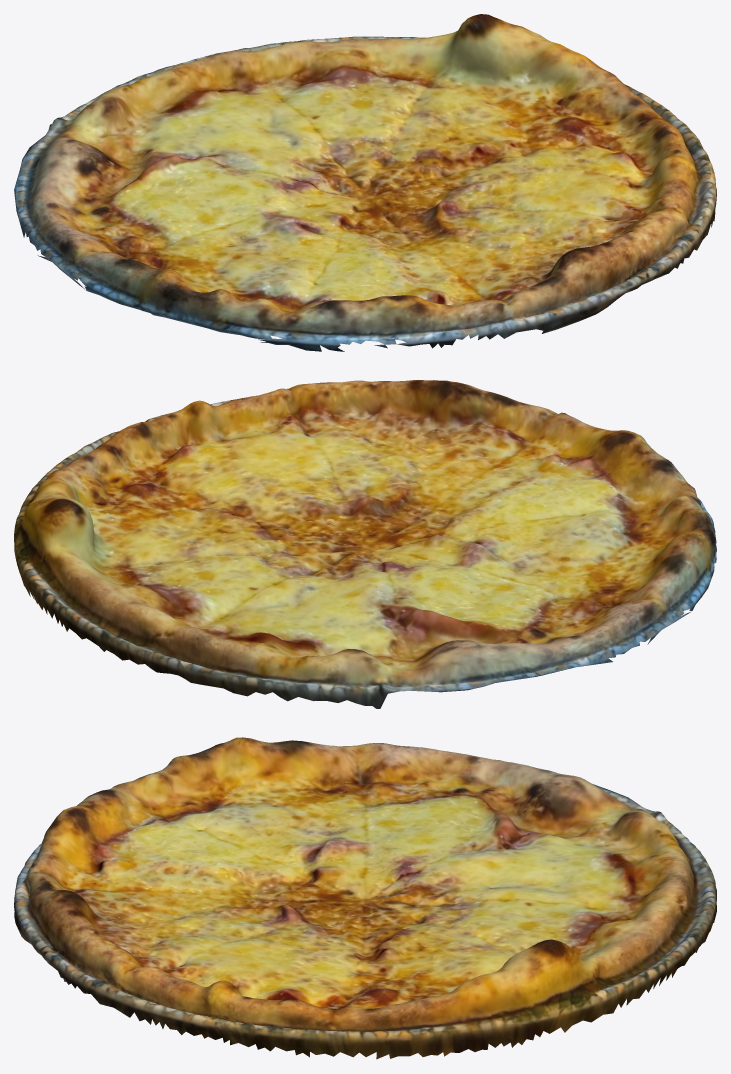
Rendered from proshuto.glb.
The picture shows the model from 3 angles, top to bottom: view 1: azimuth 30°, elevation 25°; view 2: azimuth 150°, elevation 25°; view 3: azimuth 270°, elevation 25°; orthographic projection.
Visible parts, largest first — view 1: ObjectCapture; view 2: ObjectCapture; view 3: ObjectCapture.
Boxes of the visible parts, box(x1,y1,x2,y2) form: ObjectCapture: box(14, 14, 716, 351); ObjectCapture: box(14, 380, 716, 708); ObjectCapture: box(14, 737, 716, 1059).
Size of the model in its own units: 0.675 by 0.0811 by 0.6734.
1 material, 1 textured.
